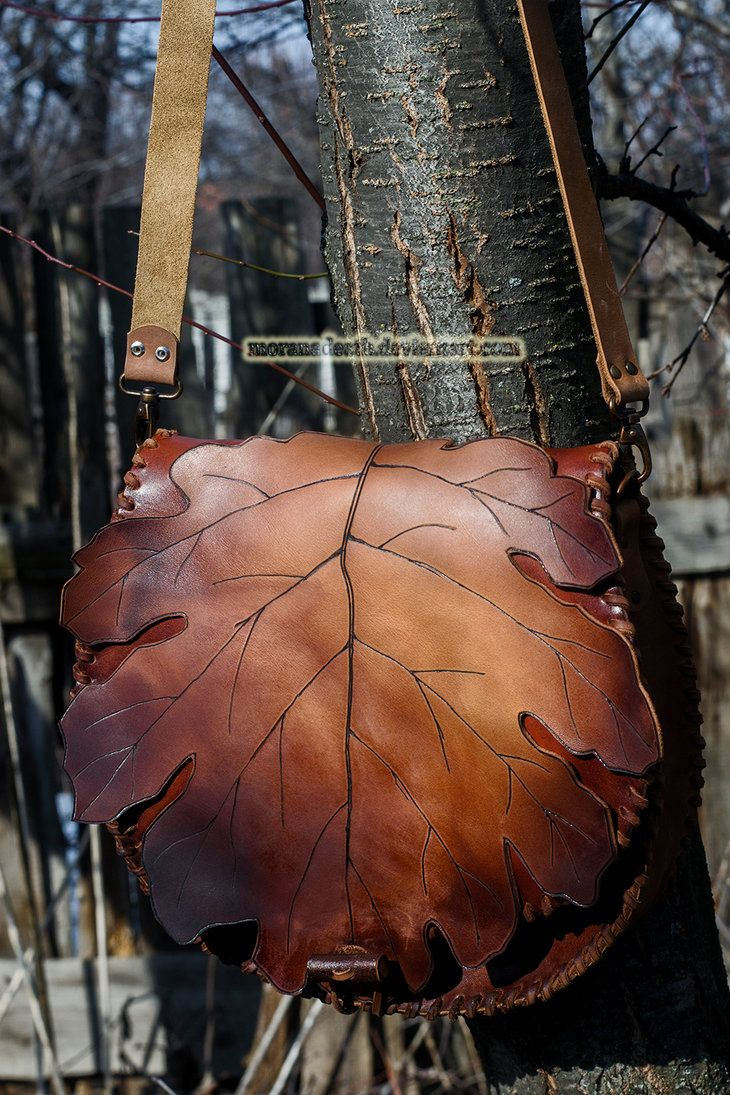cuero: (57, 1, 676, 1014)
